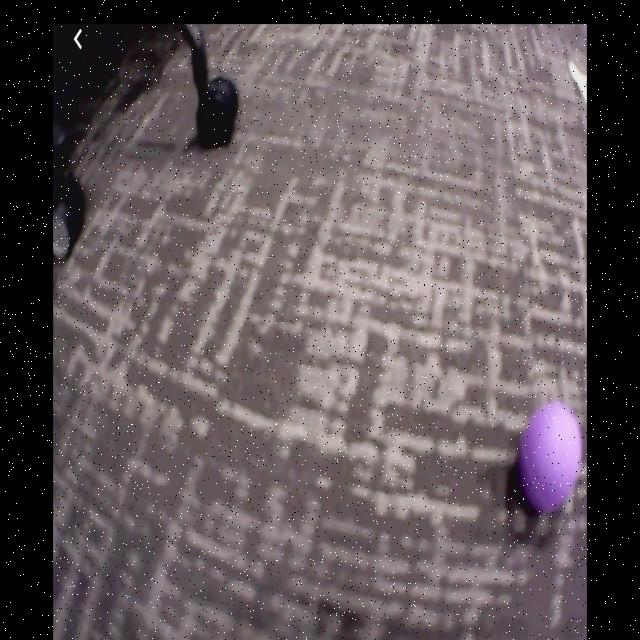ball: (517, 400, 585, 517)
